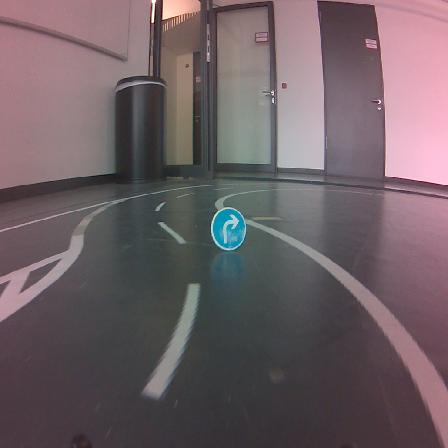RIGHT_TURN: (211, 207, 245, 250)
